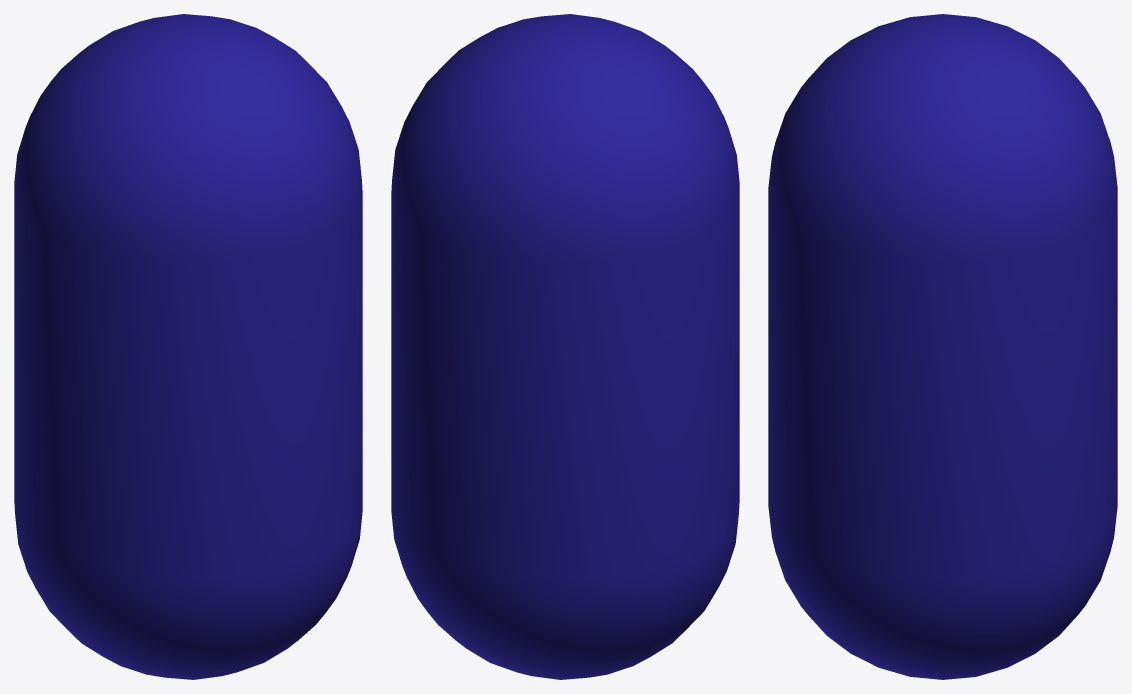
The model's file is PlayerOne.fbx.
3 views of the same model, side by side, from view 1: azimuth 30°, elevation 25°; view 2: azimuth 150°, elevation 25°; view 3: azimuth 270°, elevation 25° (orthographic).
Parts seen in each view (by area): view 1: PlayerOne; view 2: PlayerOne; view 3: PlayerOne.
Part boxes in pixels (left/top/right/bottom): PlayerOne: left=14, top=14, right=362, bottom=679; PlayerOne: left=391, top=14, right=739, bottom=679; PlayerOne: left=768, top=14, right=1117, bottom=679.
Size of the model in its own units: 100 by 200 by 100.
